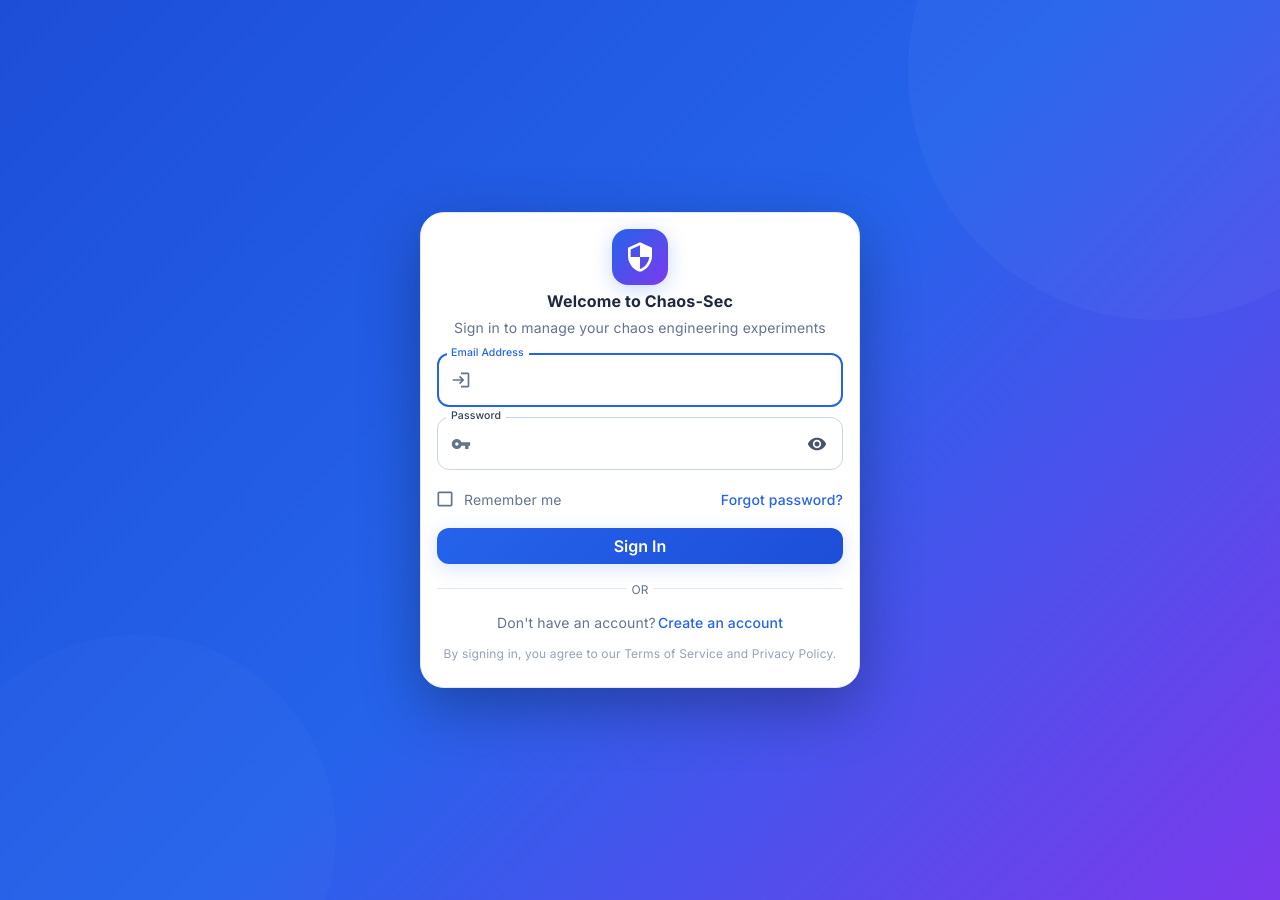
Test: Auth Flow Integration › Login flow – error handling › shows a default error message when the server provides none
Type "user@example.com" into the field labelled "Email Address".
click(661, 380); type("user@example.com")  # box [479,354,843,407]
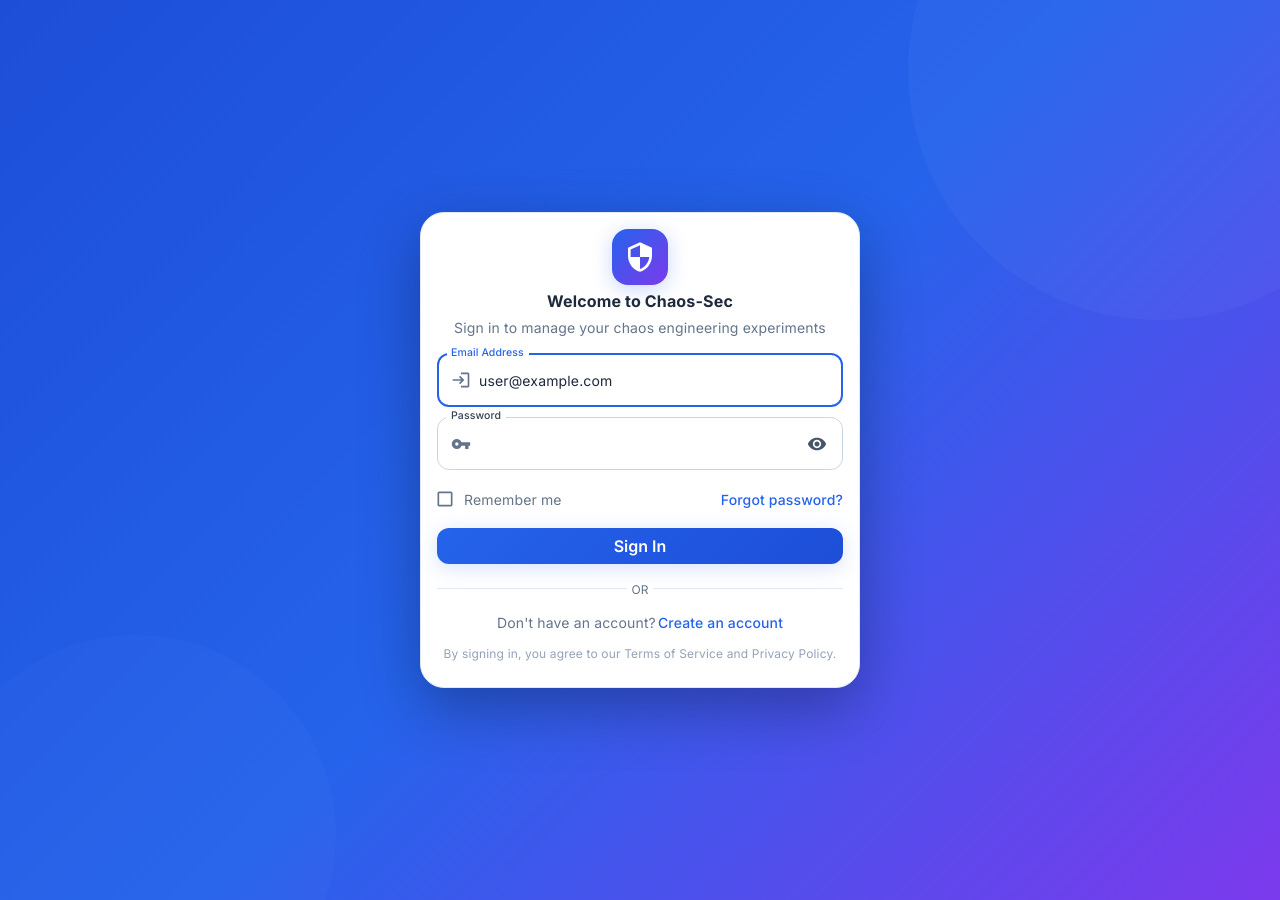
Type "ValidP@ss1" into the password field labelled "Password".
click(636, 444); type("ValidP@ss1")  # box [479,417,794,470]
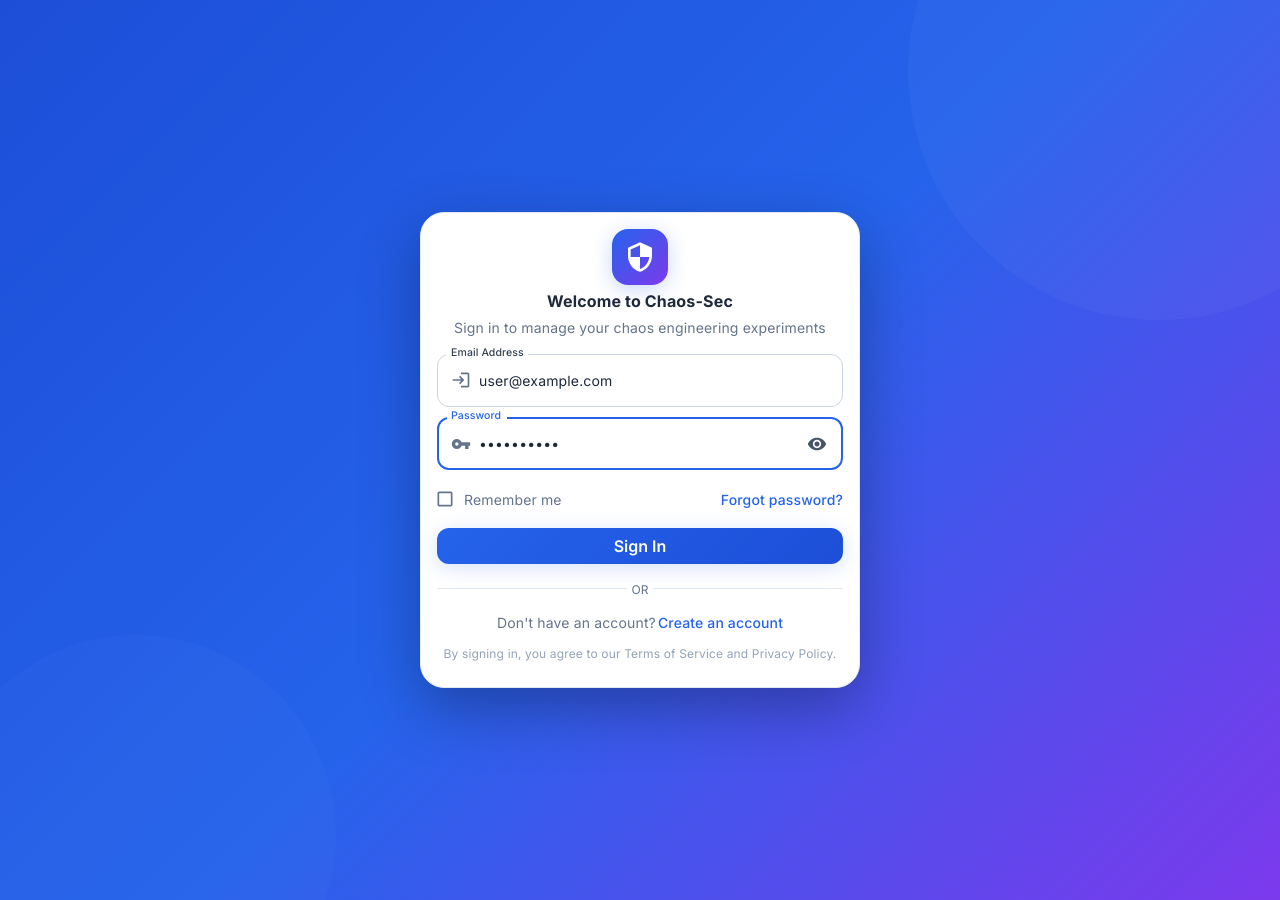
Click the button "Sign In".
click(640, 546)  # box [437,528,843,564]
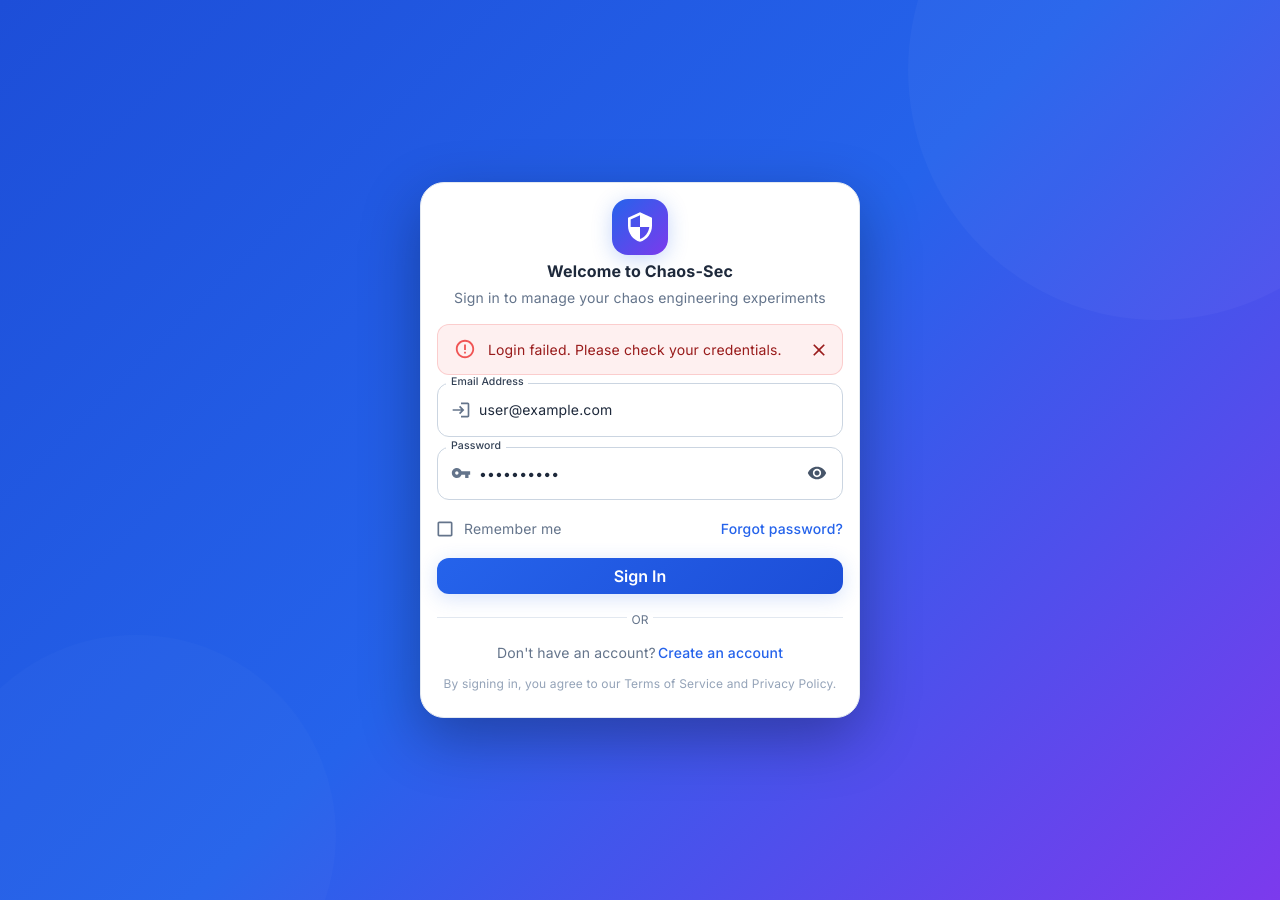
expect the message "Login failed. Please check your credentials." is shown: met, box [437,324,843,375]
